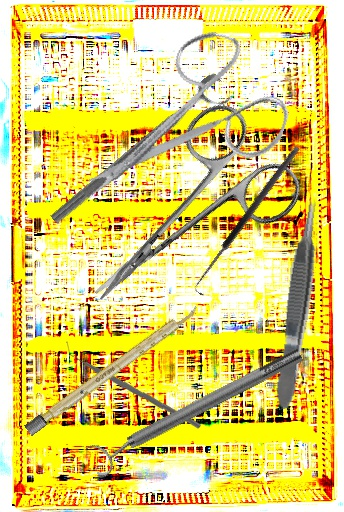Chopper: (65, 333, 202, 436)
Fixation Ring: (82, 338, 311, 481), (46, 71, 236, 238)
Hook Surgical: (190, 145, 308, 297)
Iris Scissors: (50, 92, 311, 344), (84, 8, 306, 245)
Scalpel Handle: (24, 302, 201, 437)
Tissue Forceps: (268, 196, 327, 411)
